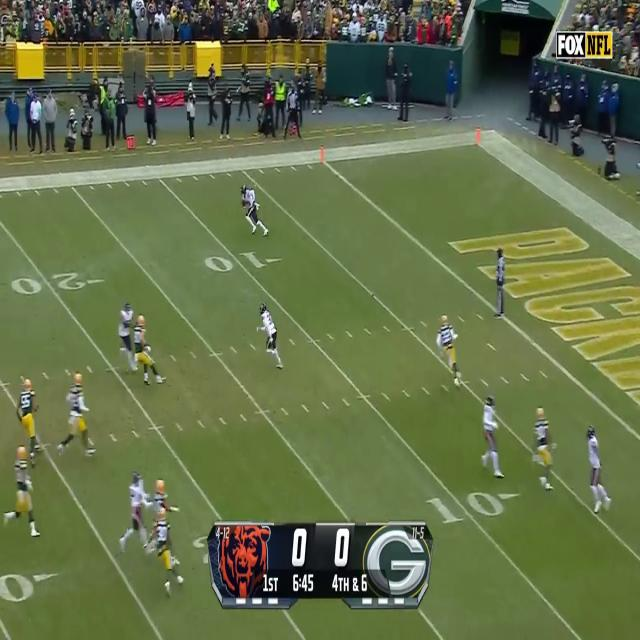Player: (5, 444, 44, 540), (152, 508, 185, 597), (66, 373, 96, 460), (125, 472, 152, 558), (16, 378, 41, 463), (586, 424, 606, 516), (533, 404, 553, 495), (436, 314, 459, 387), (482, 394, 501, 482), (116, 301, 136, 375), (135, 315, 155, 386), (259, 303, 280, 369), (240, 185, 264, 238)
Referee: (493, 247, 508, 320), (285, 84, 300, 140)
